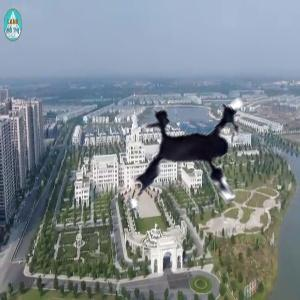drone: (107, 72, 290, 255)
